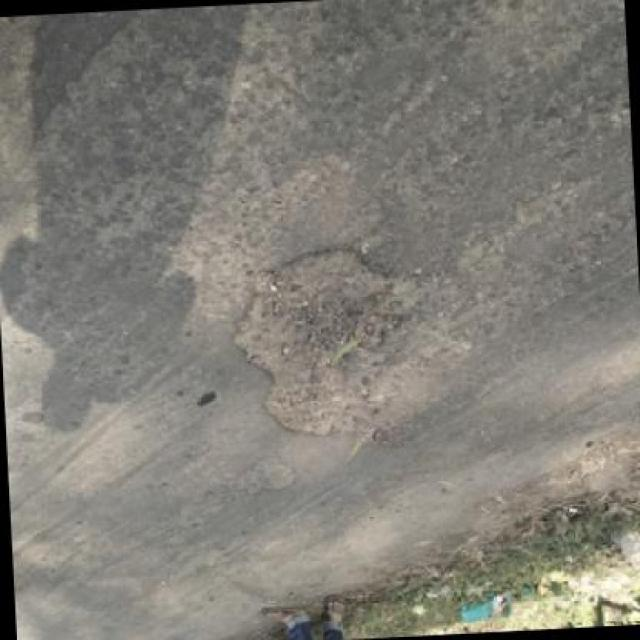pothole1: (223, 237, 435, 449), (237, 455, 297, 496)
